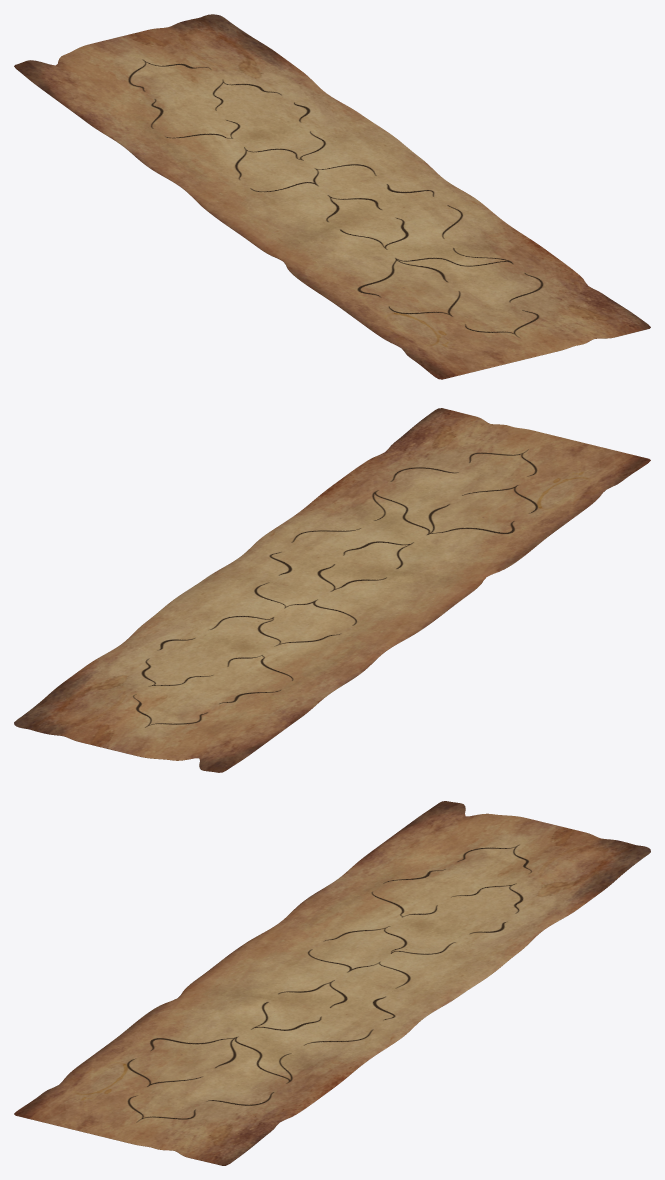
File: Map10.fbx
3 views of the same model, one above another, from view 1: azimuth 30°, elevation 25°; view 2: azimuth 150°, elevation 25°; view 3: azimuth 330°, elevation 25° (orthographic).
Visible parts, largest first — view 1: Map10; view 2: Map10; view 3: Map10.
Boxes of the visible parts, x1=… form: Map10: x1=14, y1=14, x2=650, y2=379; Map10: x1=14, y1=408, x2=650, y2=772; Map10: x1=14, y1=801, x2=650, y2=1165.
Bounding box in the file's own units: 29.14 × 0.7411 × 100.
1 material, 1 textured.
